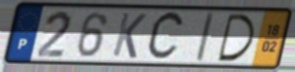2: (35, 9, 74, 59)
6: (76, 11, 110, 59)
C: (144, 9, 187, 65)
D: (216, 12, 257, 63)
I: (194, 11, 216, 64)
K: (110, 11, 149, 61)
